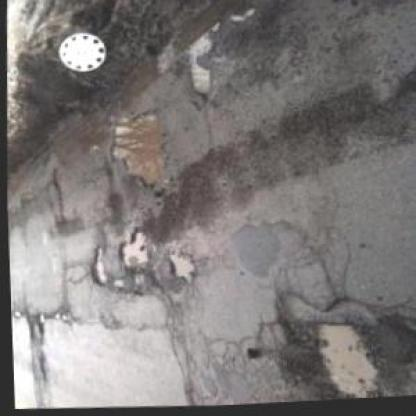pothole: (268, 315, 387, 403), (105, 111, 168, 190), (111, 228, 148, 268), (181, 63, 214, 98), (161, 251, 194, 284), (85, 245, 108, 286)
